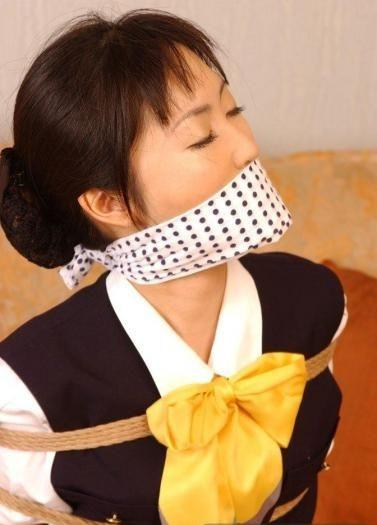WRONG: (122, 91, 278, 247)
